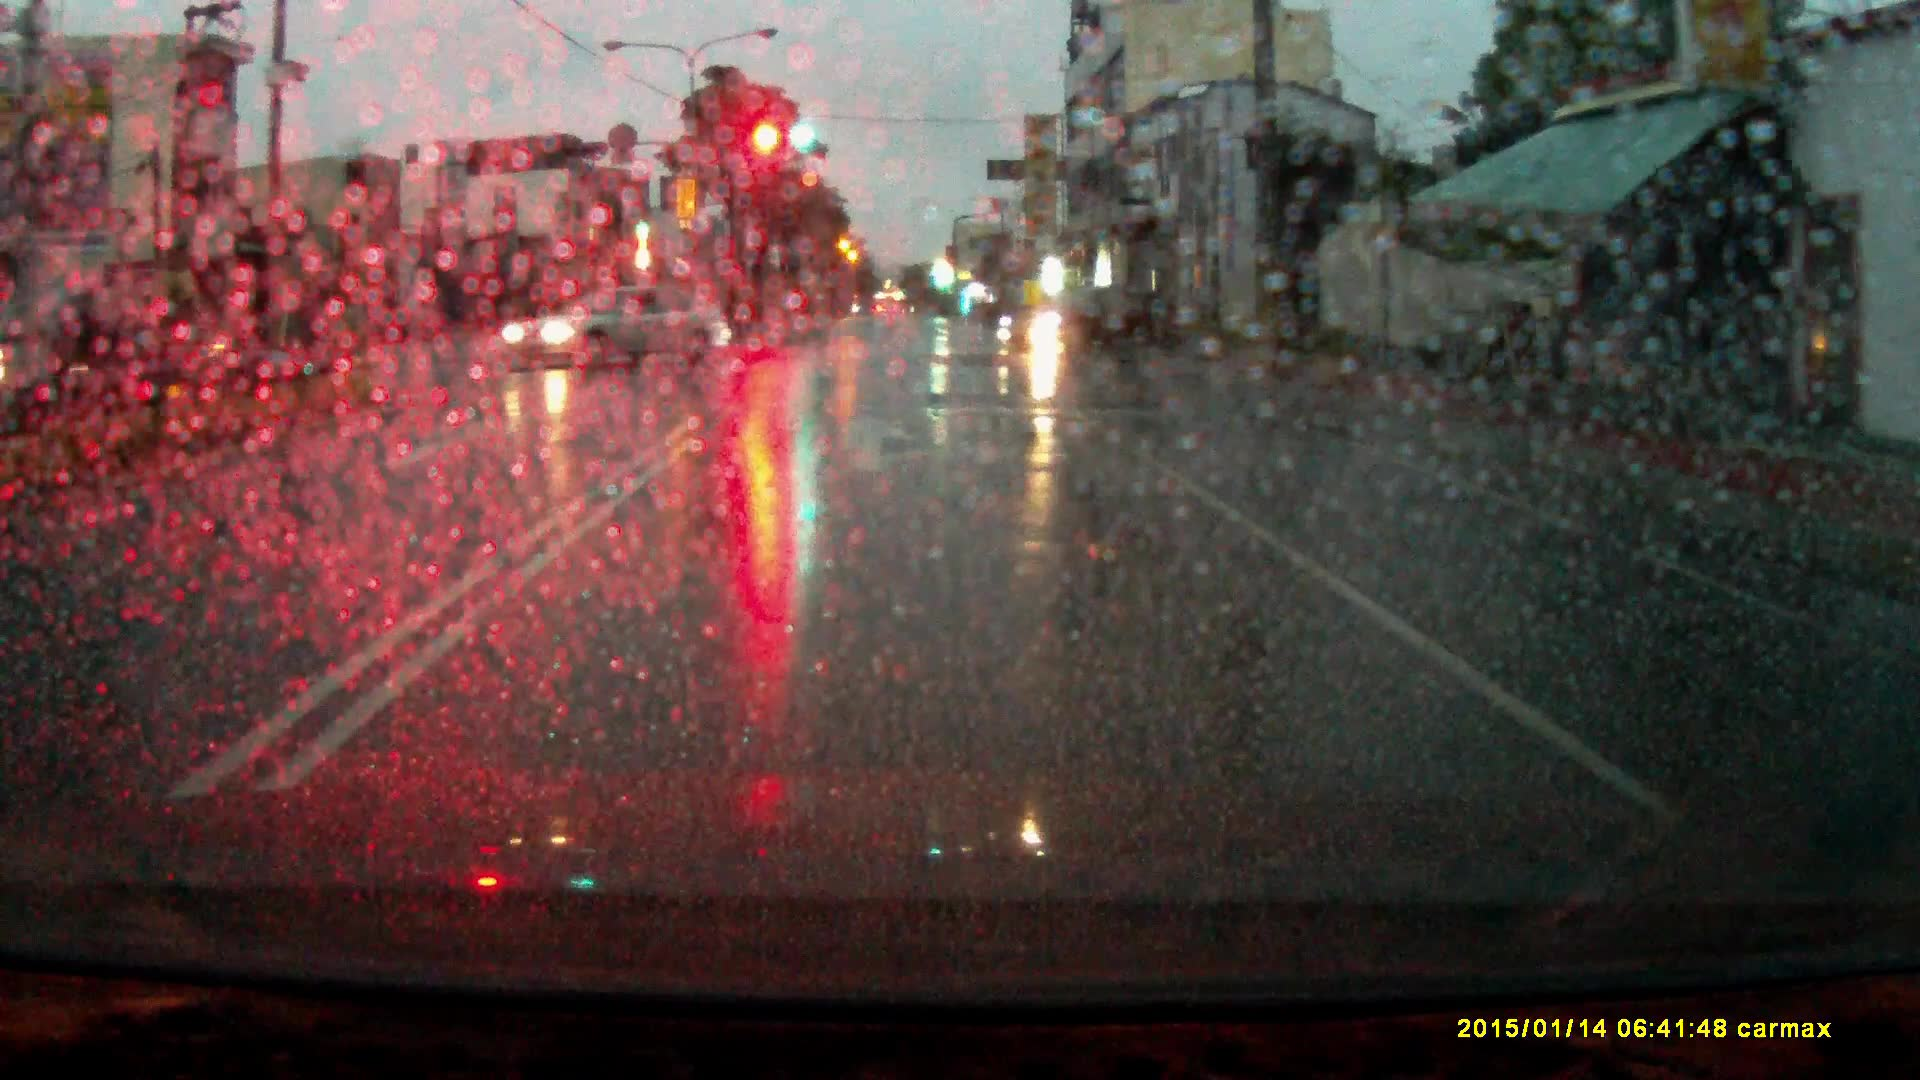vehicle: (12, 264, 273, 396), (502, 287, 736, 376), (1000, 293, 1182, 359)
